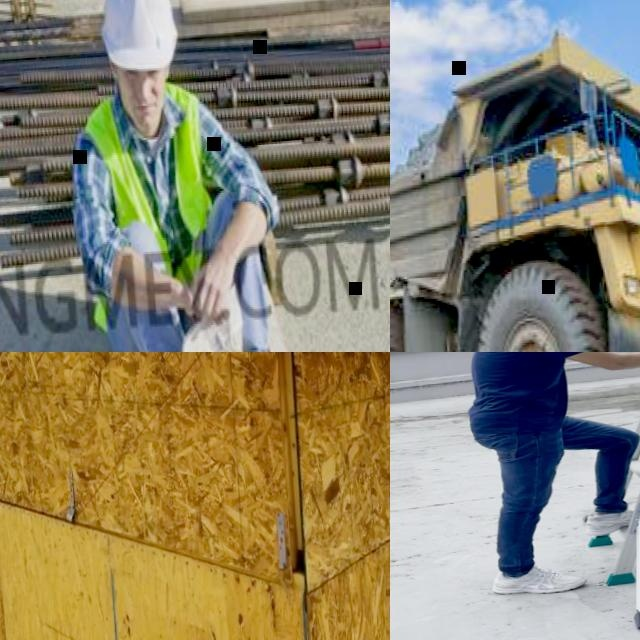Hardhat: (93, 0, 181, 78)
NO-Mask: (124, 92, 167, 134)
NO-Safety Vest: (456, 352, 571, 446)
Person: (56, 0, 301, 352), (446, 352, 640, 597)
Safety Vest: (78, 81, 223, 335)
machinery: (390, 8, 640, 352)
